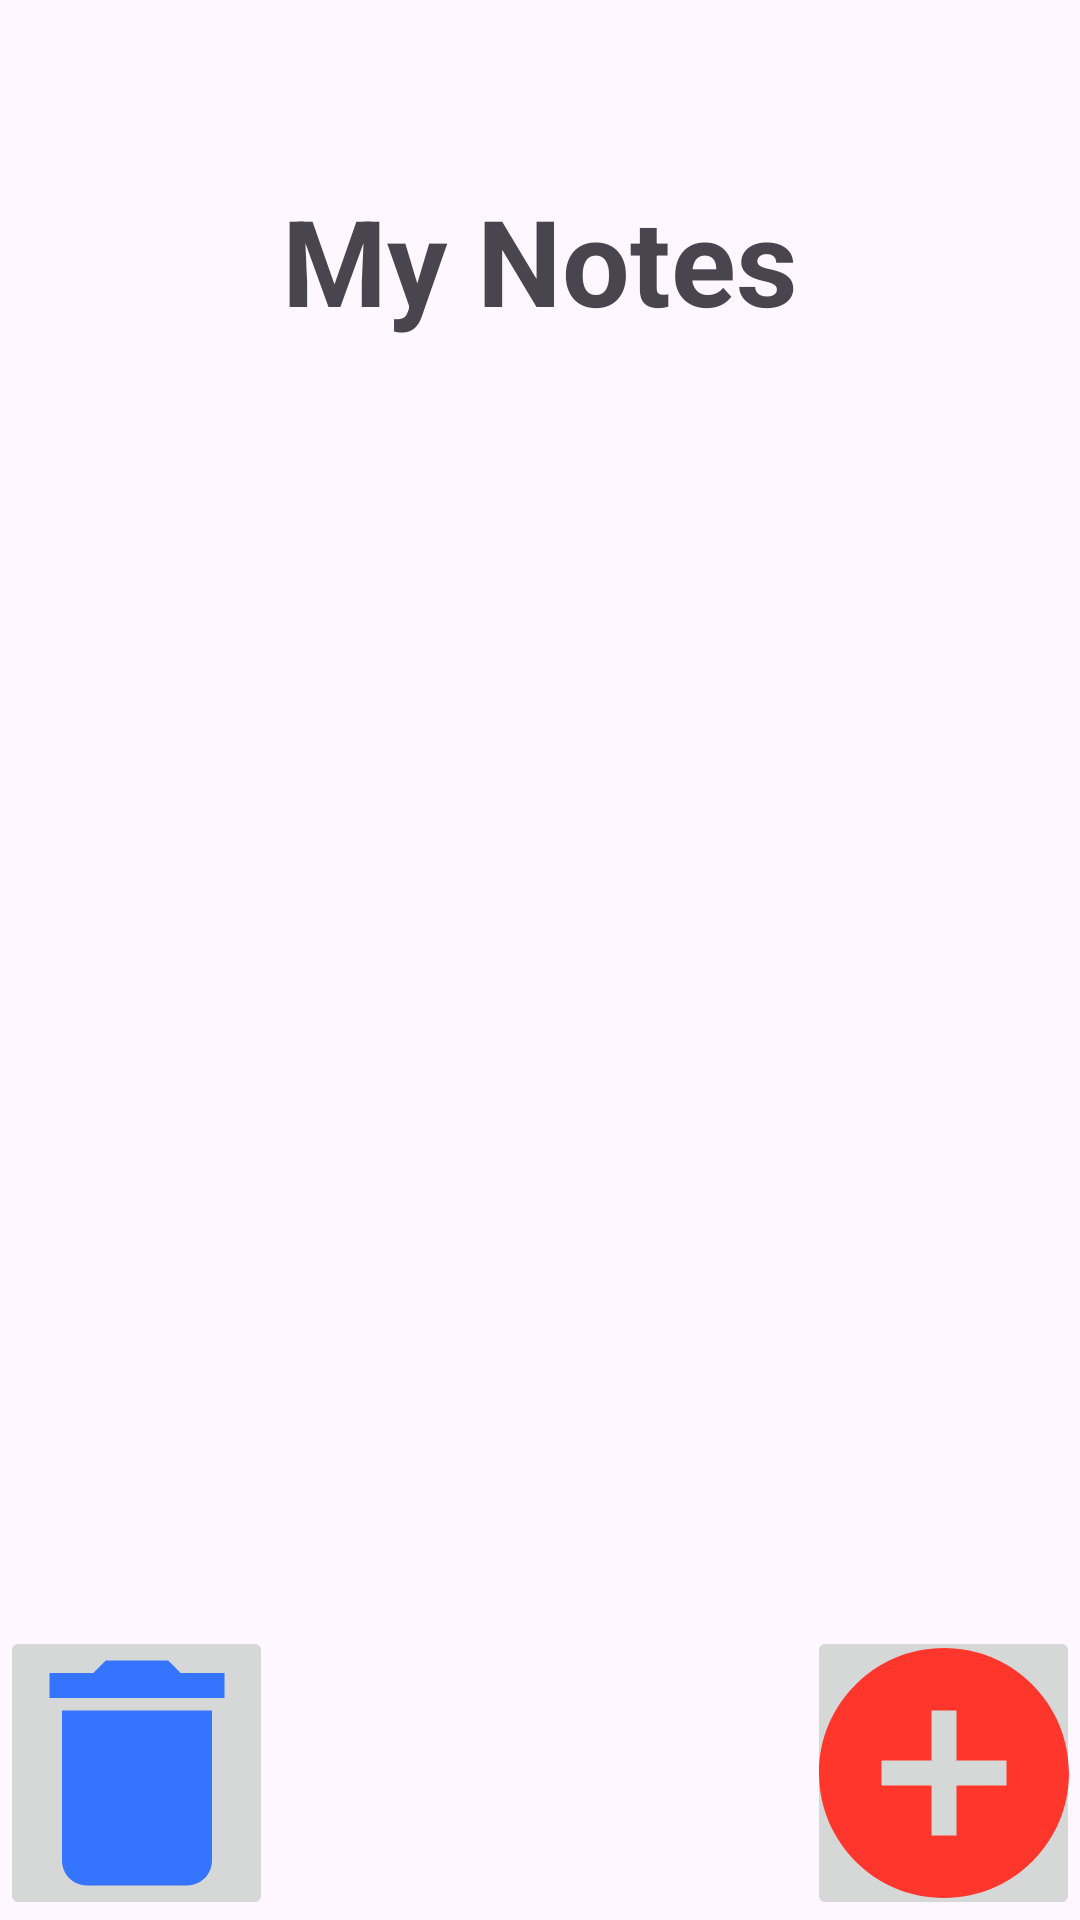

Where icons sit on this 1080px x 1920px app screen, as rect(x1, y1, x2, y2):
add circle: rect(819, 1644, 1069, 1902)
delete: rect(12, 1644, 261, 1902)
